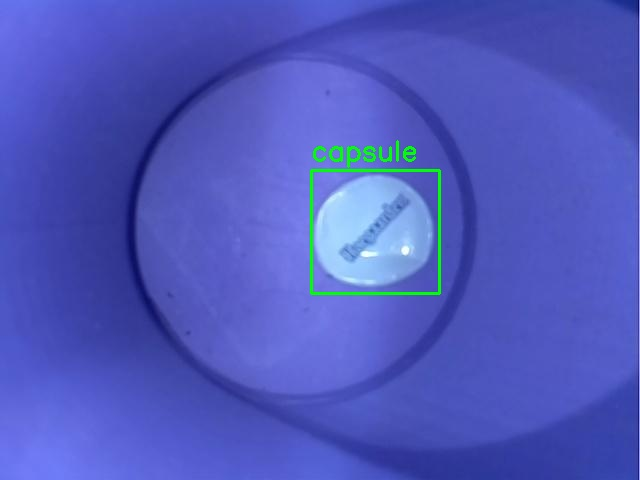capsule: (311, 170, 439, 293)
